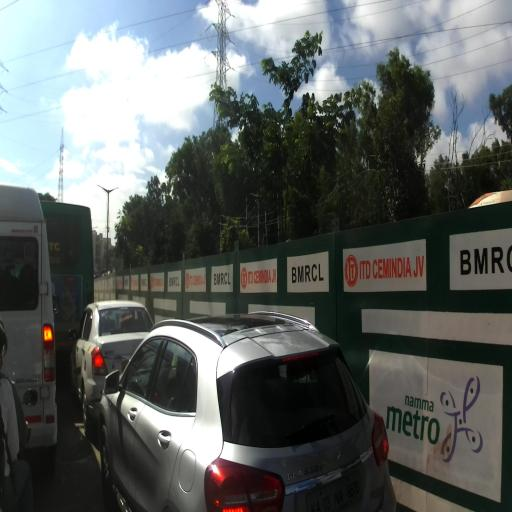street_light_0: (97, 183, 110, 196), (107, 186, 119, 196), (92, 226, 99, 232)
